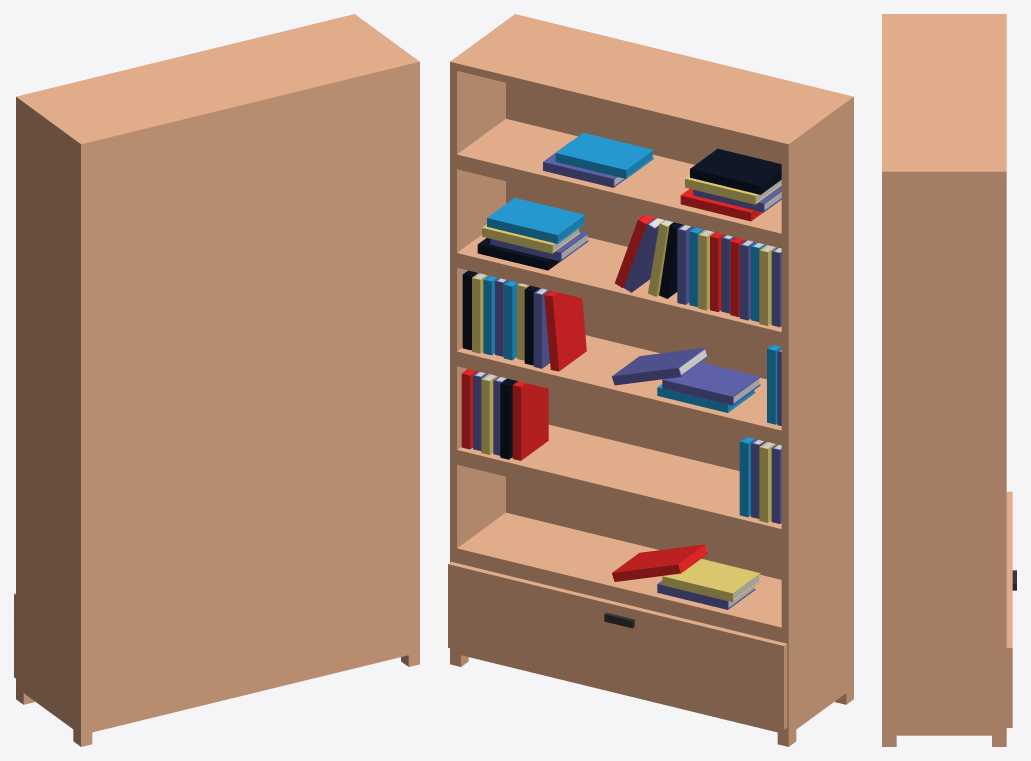
Rendered from Bookshelf.fbx.
The picture shows the model from 3 angles, left to right: view 1: azimuth 30°, elevation 25°; view 2: azimuth 150°, elevation 25°; view 3: azimuth 270°, elevation 25°; orthographic projection. The views are drawn at different scales.
Parts seen in each view (by area): view 1: Bookshelf; view 2: Bookshelf, Book038, Book017, Book036, Book019, Book029, Book050, Book047, Book051, Book030, Book012, Book020 (+37 smaller); view 3: Bookshelf.
Part boxes in pixels (<box>): Bookshelf: <box>14,14,419,746</box>; Bookshelf: <box>448,14,853,746</box>; Book038: <box>555,132,653,178</box>; Book017: <box>487,198,585,243</box>; Book036: <box>690,148,781,194</box>; Book019: <box>544,290,586,371</box>; Book029: <box>662,362,760,405</box>; Book050: <box>662,558,760,602</box>; Book047: <box>512,381,548,460</box>; Book051: <box>612,544,708,581</box>; Book030: <box>612,347,708,385</box>; Book012: <box>623,217,663,292</box>; Book020: <box>533,288,549,368</box>; Bookshelf: <box>882,14,1012,746</box>.
Size of the model in its own units: 120 by 43.36 by 204.
